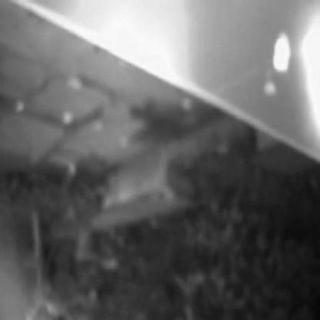other: (290, 10, 320, 136)
